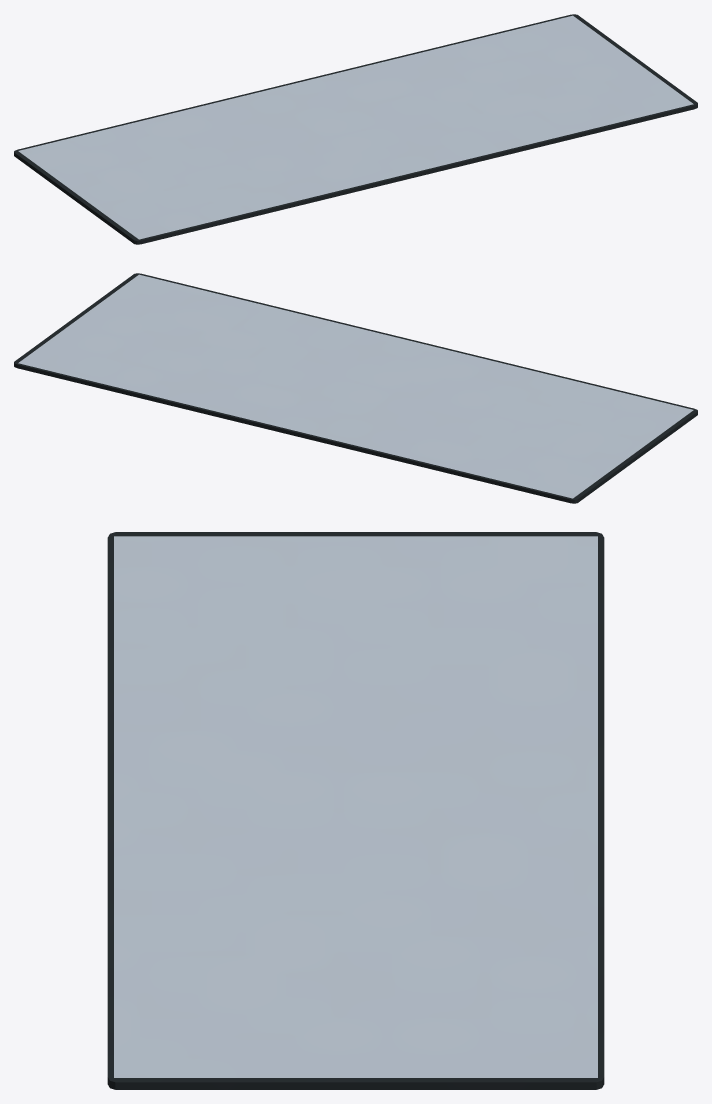
The model's file is Mouse_Pad_01_02.fbx.
The picture shows the model from 3 angles, top to bottom: view 1: azimuth 30°, elevation 25°; view 2: azimuth 150°, elevation 25°; view 3: azimuth 270°, elevation 25°; orthographic projection. The views are drawn at different scales.
Visible parts, largest first — view 1: Mouse_Pad_01_02; view 2: Mouse_Pad_01_02; view 3: Mouse_Pad_01_02.
Part boxes in pixels (x1,y1,x2,y2): Mouse_Pad_01_02: (14,14,697,244); Mouse_Pad_01_02: (14,273,697,503); Mouse_Pad_01_02: (107,532,604,1089).
Bounding box in the file's own units: 1.21 × 0.00776 × 0.4621.
